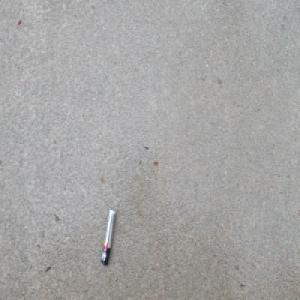Battery: (101, 206, 117, 267)
